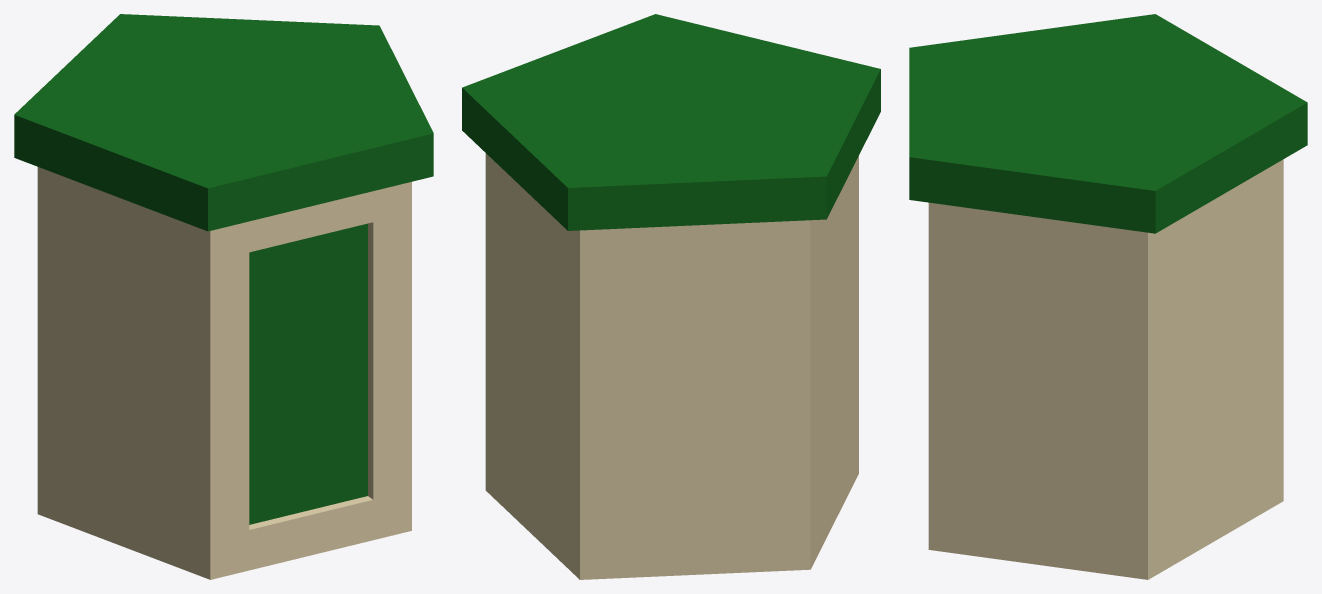
The model's file is Jar1.glb.
3 renders of one model, left to right at view 1: azimuth 30°, elevation 25°; view 2: azimuth 150°, elevation 25°; view 3: azimuth 270°, elevation 25°, orthographic.
Visible parts, largest first — view 1: Cylinder.003; view 2: Cylinder.003; view 3: Cylinder.003.
Part boxes in pixels (left/top/right/bottom): Cylinder.003: left=14, top=14, right=433, bottom=579; Cylinder.003: left=462, top=14, right=880, bottom=579; Cylinder.003: left=909, top=14, right=1307, bottom=579.
Bounding box in the file's own units: 0.2368 × 0.2487 × 0.2252.
